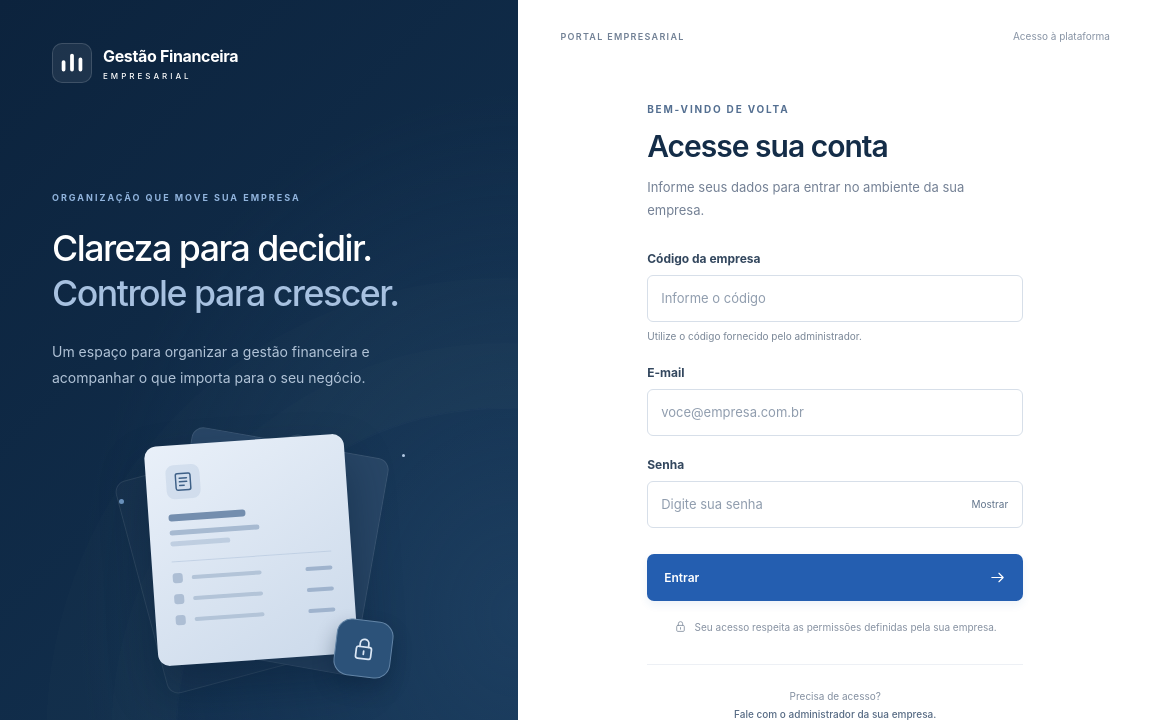
Scenario: Acesso empresarial › preserva os campos em falha de conexão recuperável
In the field labelled "Código da empresa": (835, 298) [647,275,1023,322], type "7"
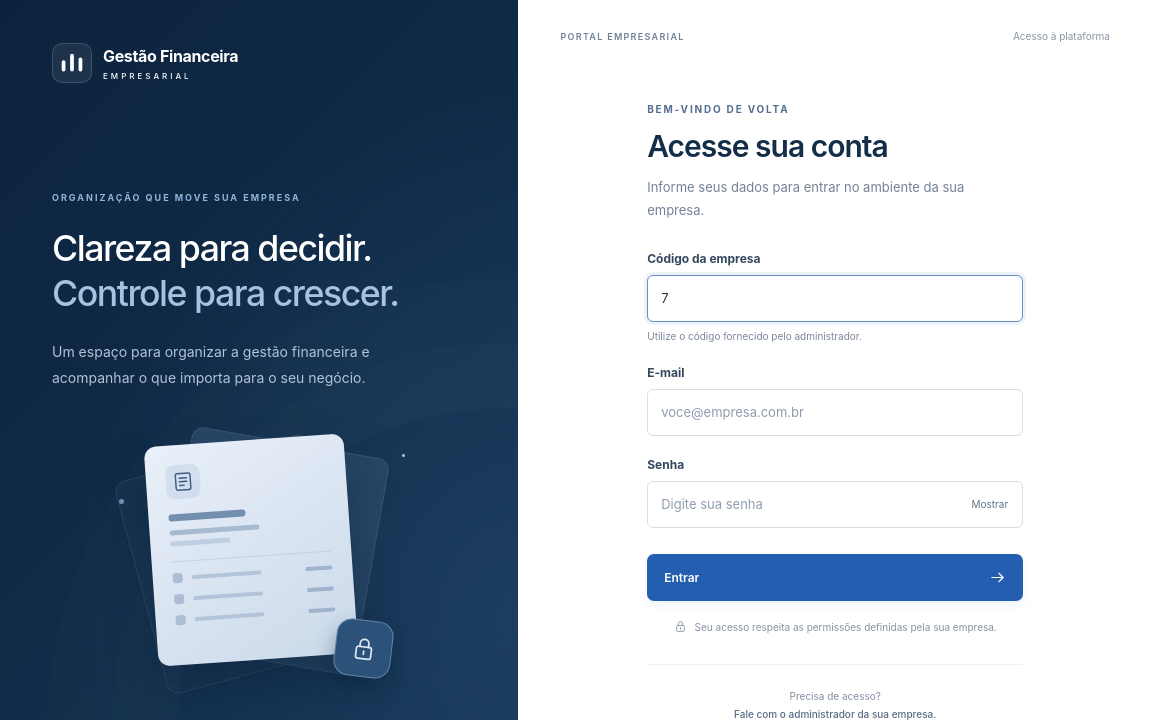
In the field labelled "E-mail": (835, 412) [647,389,1023,436], type "ana@teste.invalid"
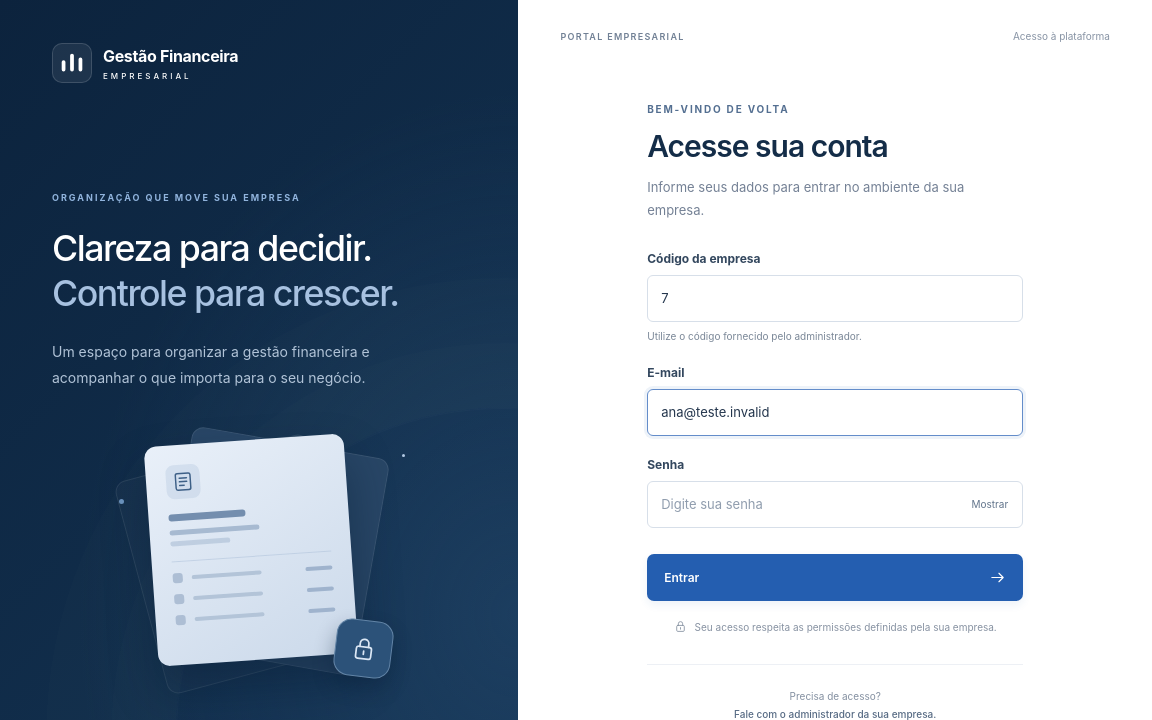
In the password field labelled "Senha": (835, 504) [647,481,1023,528], type "senha-ficticia"
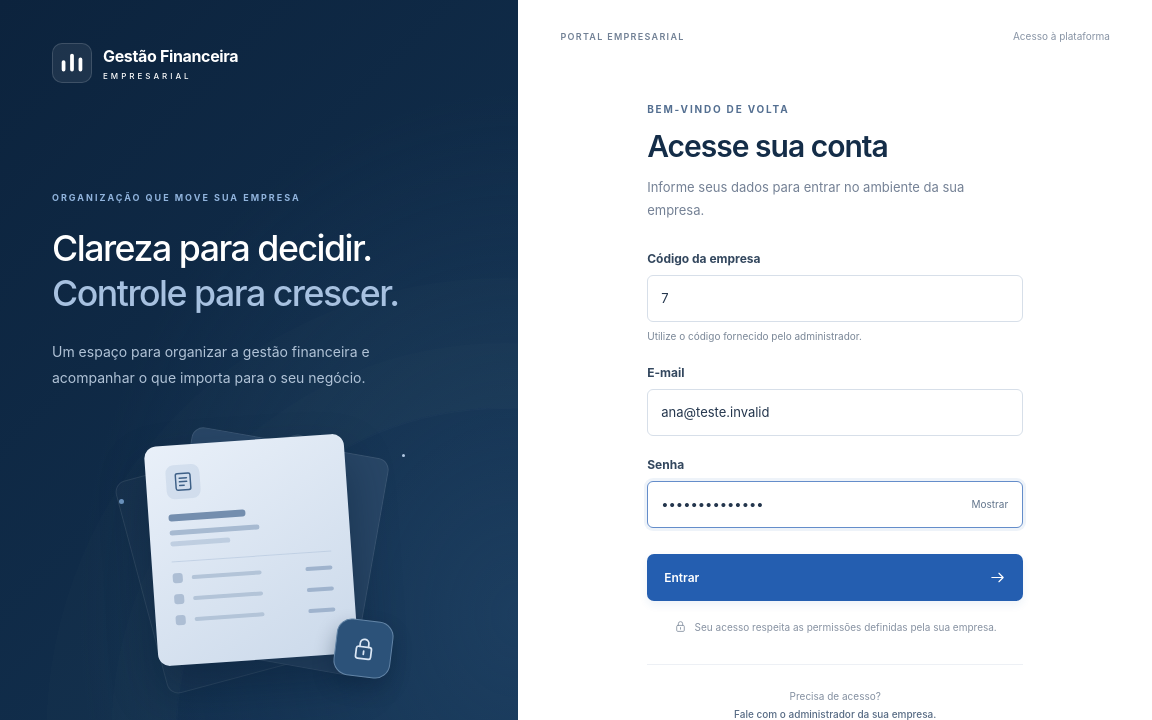
Click the button "Entrar": (682, 577) [647,554,1023,601]
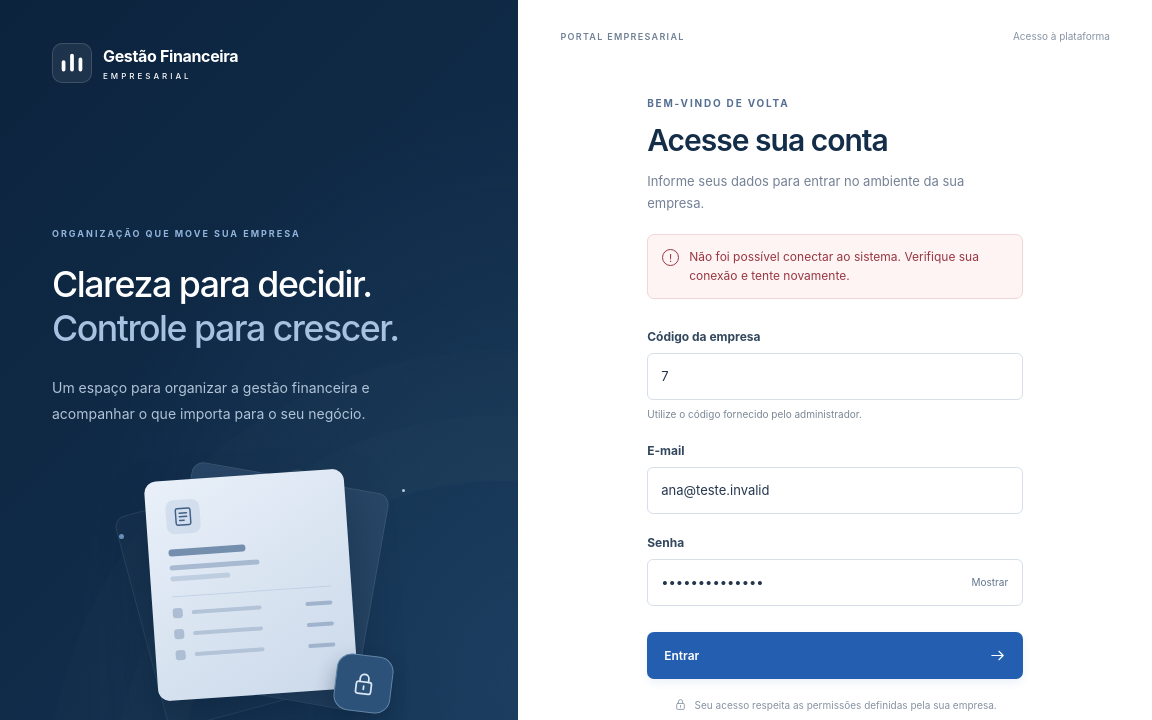
Expected: the text "Não foi possível conectar ao sistema" is shown, [689,249,979,283]
